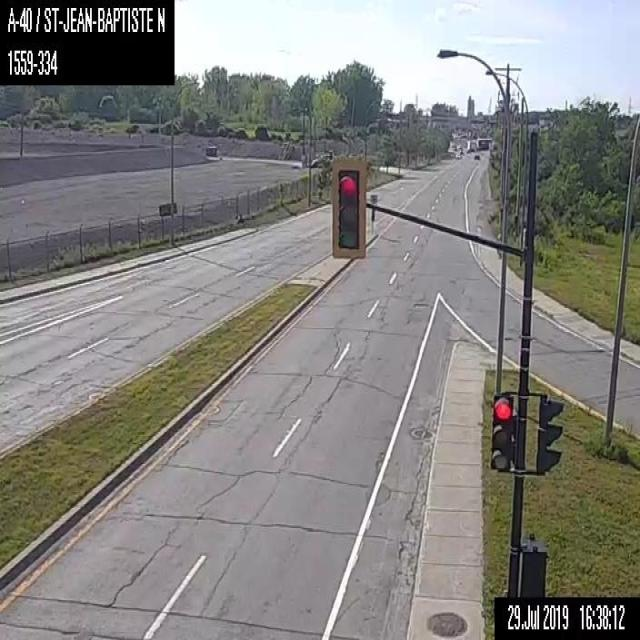vehicle: (473, 153, 479, 160), (455, 153, 460, 158)
